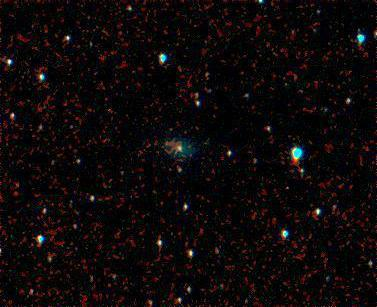star: (151, 130, 181, 160)
